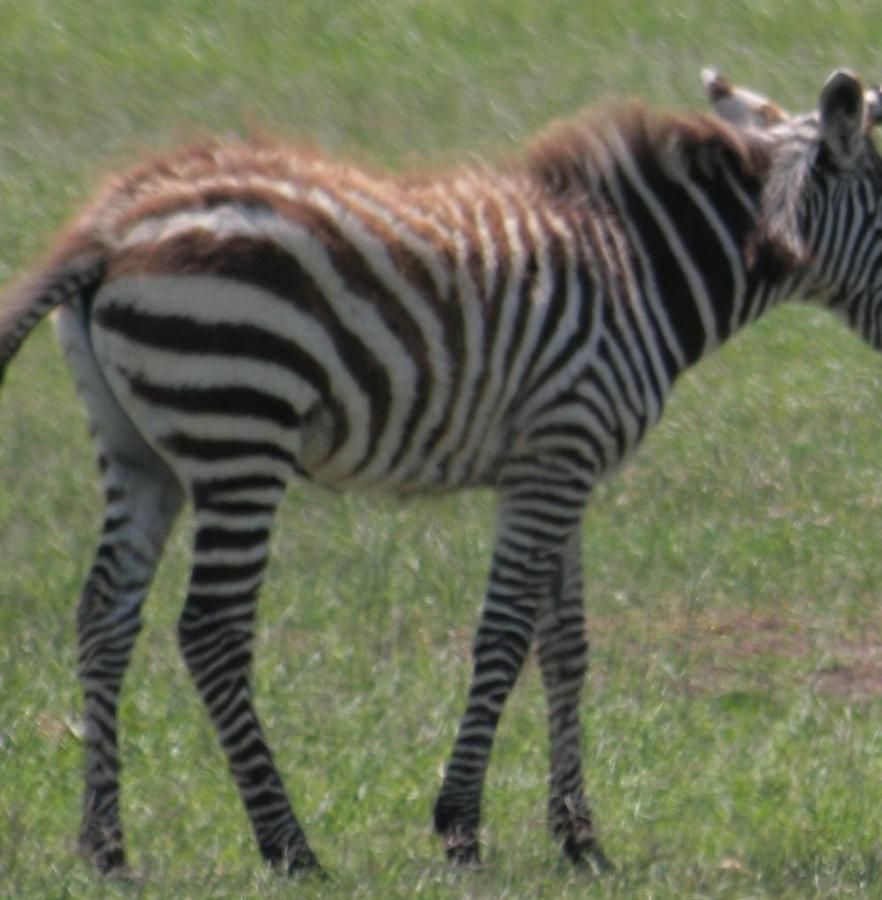zebra_plains: (92, 106, 713, 581)
